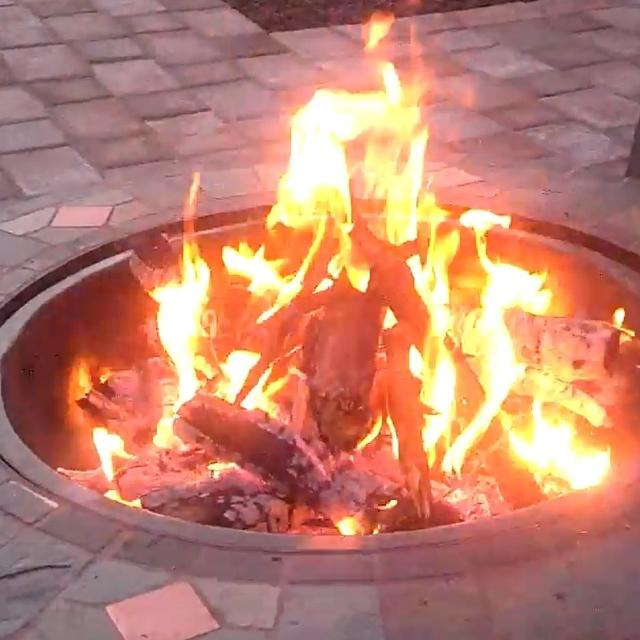Fire: (63, 10, 625, 533)
